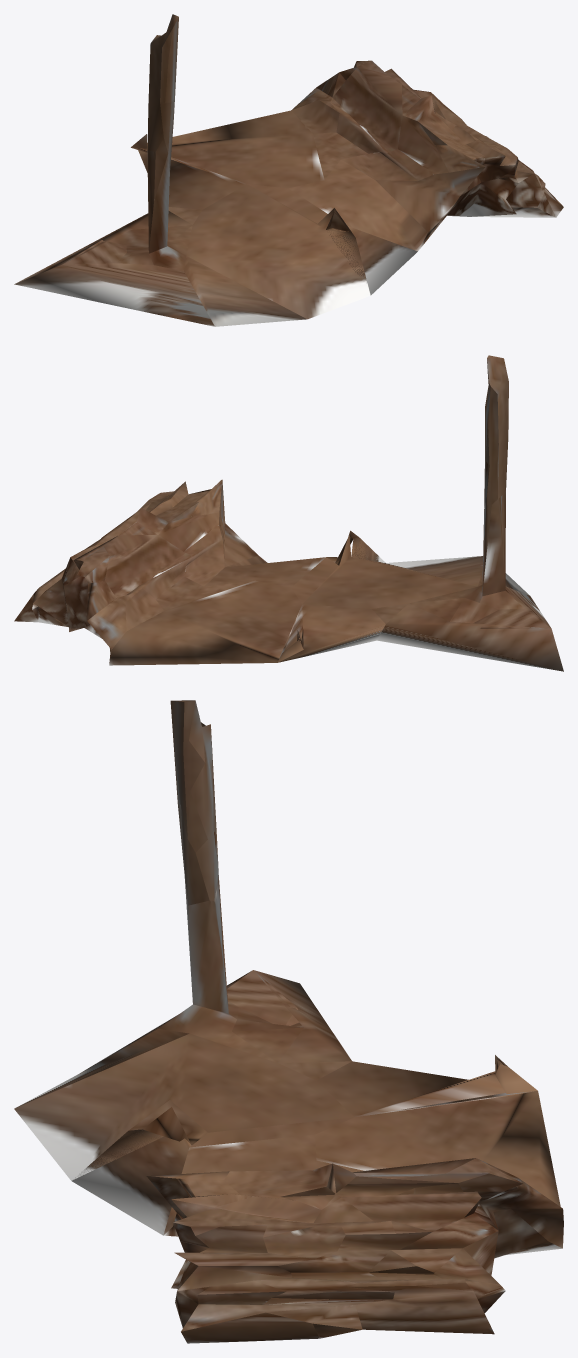
The model's file is ConstructionSite_lod.glb.
The picture shows the model from 3 angles, top to bottom: view 1: azimuth 30°, elevation 25°; view 2: azimuth 150°, elevation 25°; view 3: azimuth 270°, elevation 25°; orthographic projection. The views are drawn at different scales.
Visible parts, largest first — view 1: ConstructionSite; view 2: ConstructionSite; view 3: ConstructionSite.
Part boxes in pixels (x1=…): ConstructionSite: x1=14, y1=14, x2=563, y2=326; ConstructionSite: x1=14, y1=355, x2=563, y2=671; ConstructionSite: x1=14, y1=700, x2=563, y2=1343.
Bounding box in the file's own units: 0.9883 × 0.5499 × 0.6951.
Materials: 1 (1 with a texture image).
